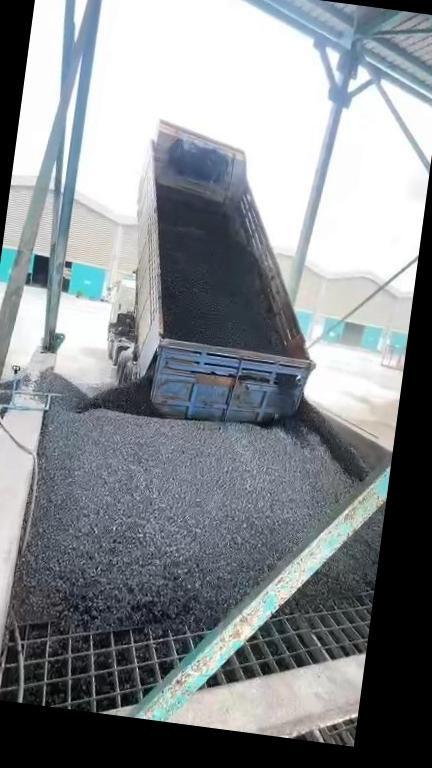gravel: (14, 359, 368, 632), (157, 189, 281, 352), (289, 506, 385, 609), (0, 378, 11, 450)
sand: (324, 398, 399, 444)
